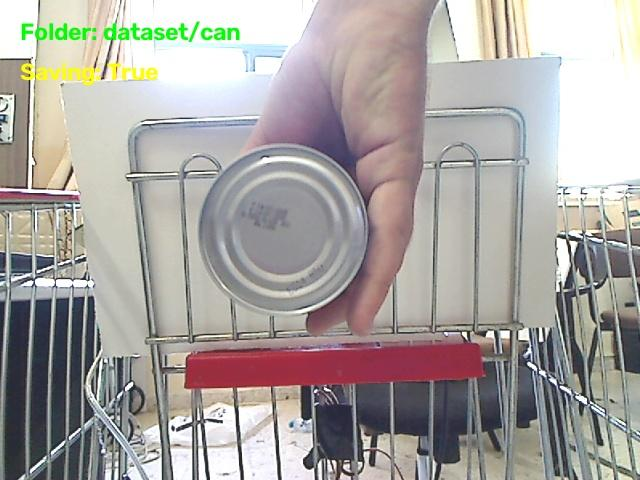can: (199, 144, 367, 314)
